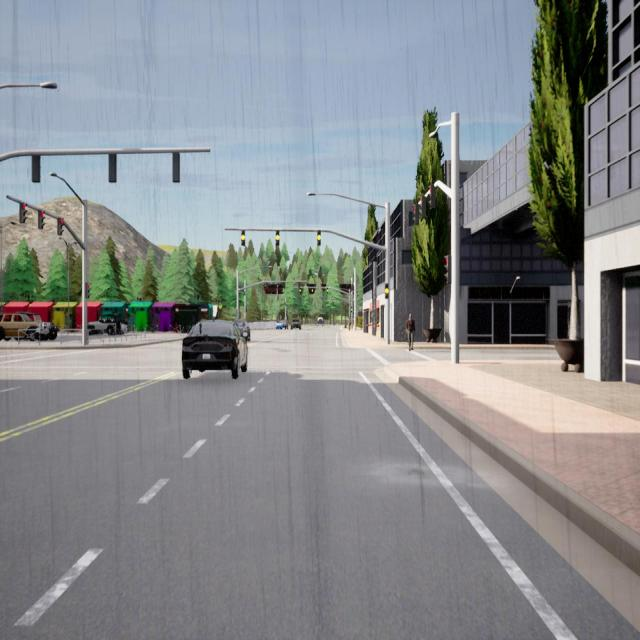Pedestrian: (406, 313, 415, 351), (347, 318, 352, 331)
Vehicle: (182, 318, 248, 379), (0, 313, 40, 340), (24, 312, 60, 341), (88, 313, 120, 335), (234, 320, 251, 341), (290, 319, 301, 330), (120, 322, 128, 334), (316, 318, 324, 328), (280, 320, 288, 330), (275, 321, 283, 330)
traffic_light: (443, 254, 452, 284), (172, 151, 180, 183), (109, 153, 117, 183), (32, 154, 40, 183), (428, 184, 436, 208), (19, 202, 27, 224), (418, 197, 426, 217), (38, 209, 45, 229), (412, 204, 419, 224), (57, 217, 64, 235), (86, 282, 92, 299), (241, 230, 245, 246), (276, 230, 280, 246), (317, 230, 321, 245), (384, 284, 388, 298), (350, 306, 352, 313), (299, 287, 301, 294), (326, 288, 328, 294), (312, 288, 314, 294), (246, 307, 247, 312)
